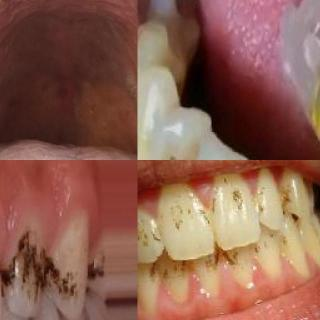stains: (158, 187, 210, 233), (208, 173, 251, 226), (12, 235, 36, 297), (41, 257, 78, 296), (254, 176, 280, 225), (138, 208, 162, 256), (138, 260, 160, 312), (222, 245, 255, 277), (279, 164, 304, 206), (88, 251, 115, 289), (252, 229, 281, 261), (197, 248, 230, 274), (275, 224, 299, 257), (162, 258, 192, 284)
